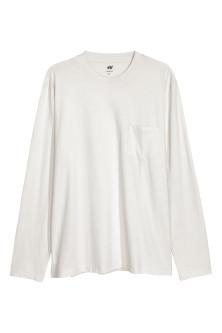teeshirt: (19, 51, 213, 287)
